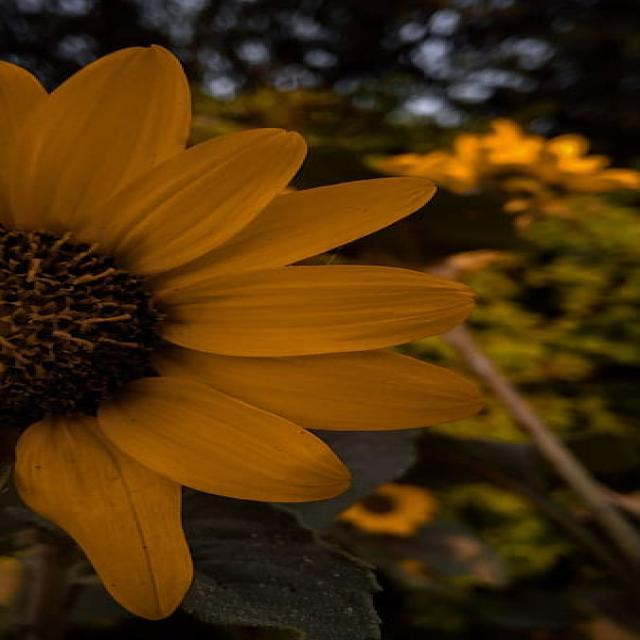sunflower: (0, 42, 485, 620), (338, 482, 436, 537)
